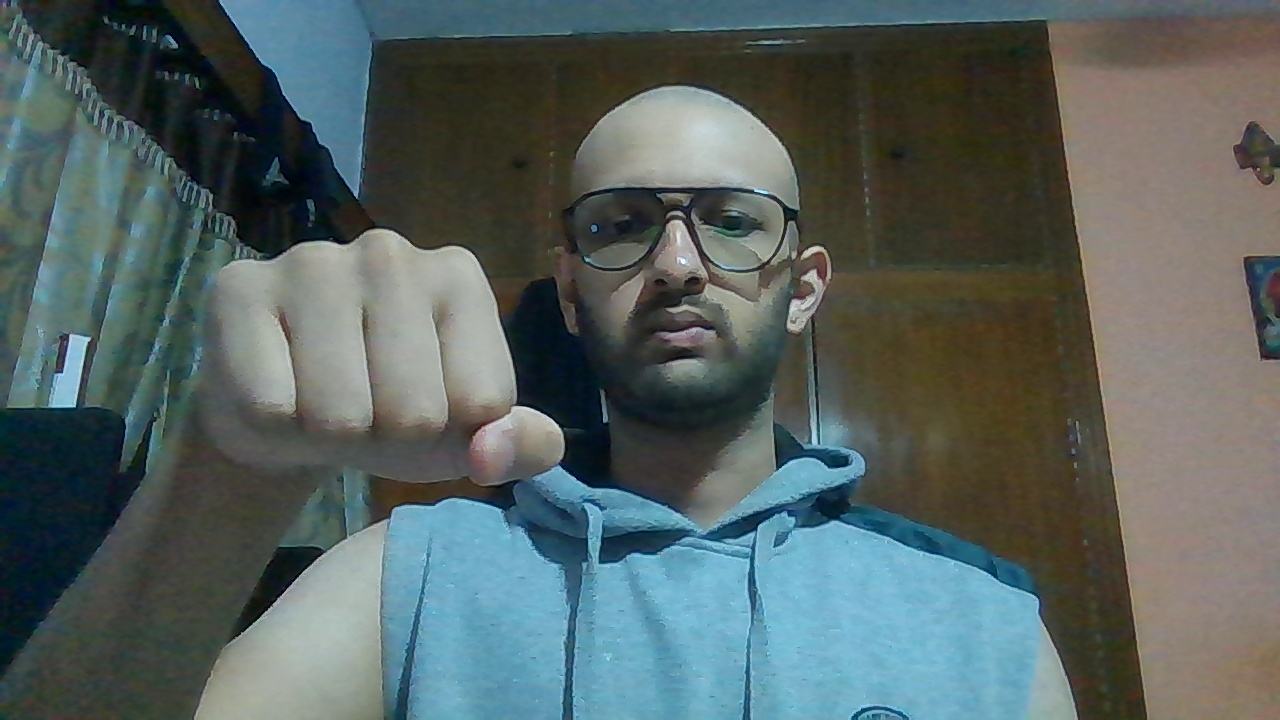Yes: (191, 223, 573, 492)
